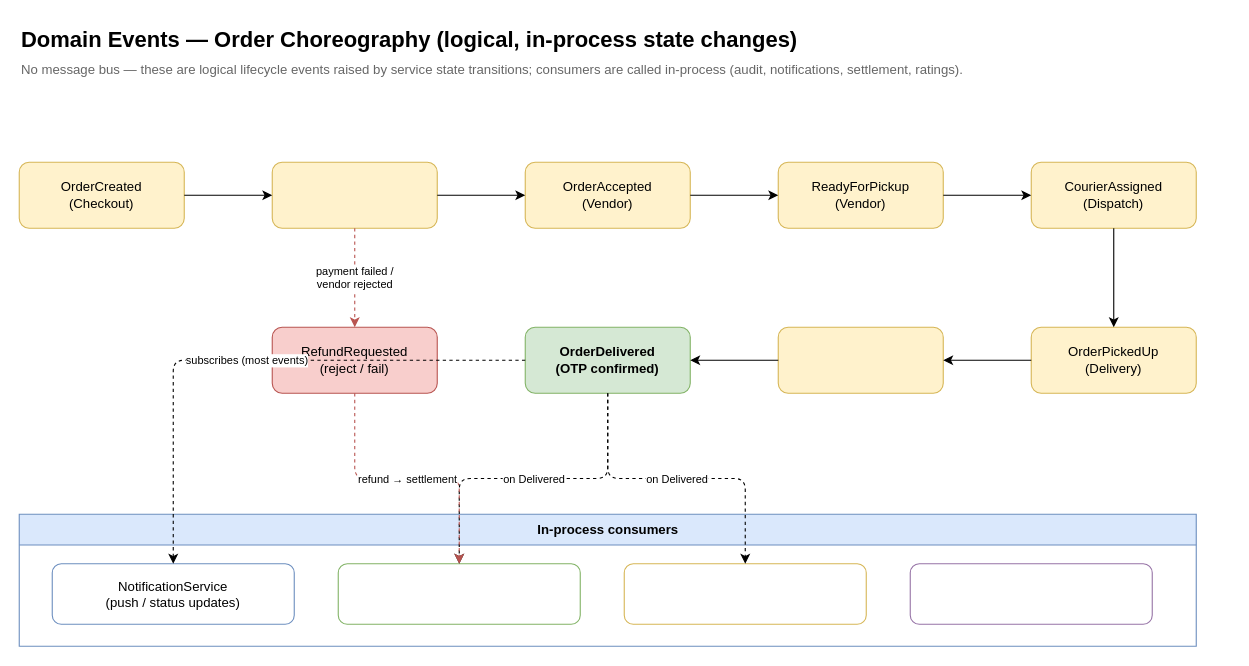
Some shapes in this 1249 by 666 pixel diagram are drawn without their labels. The shapes that lost their labels are listed below. From the top down, each one's centre as x and y in pixels, then its label:
the point at 354,194: PaymentConfirmed (Payment)
the point at 860,359: OutForDelivery (Delivery)
the point at 458,593: FinanceService (Commission / settlement)
the point at 744,593: RatingService (request review)
the point at 1030,593: AuditLog (admin/ops/finance actions)
